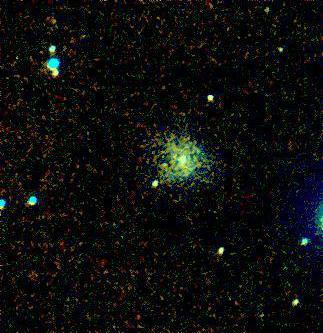star: (151, 146, 181, 176)
